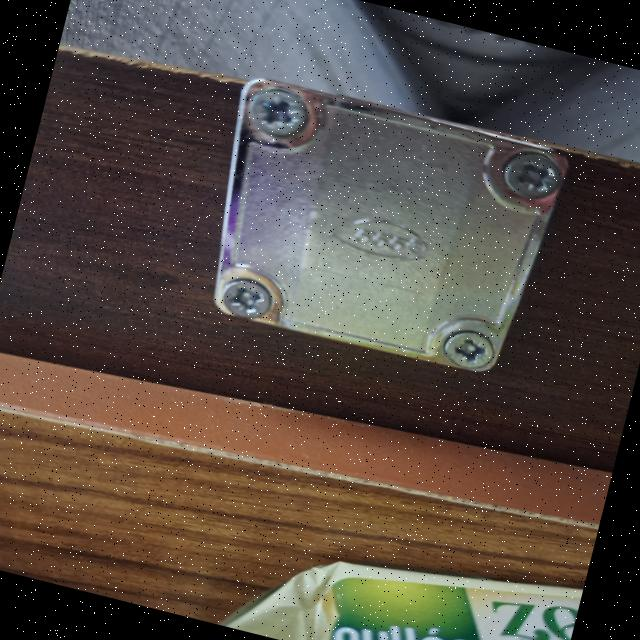Pozidriv: (504, 151, 567, 204), (246, 84, 306, 138), (220, 276, 275, 322), (441, 328, 498, 371)
